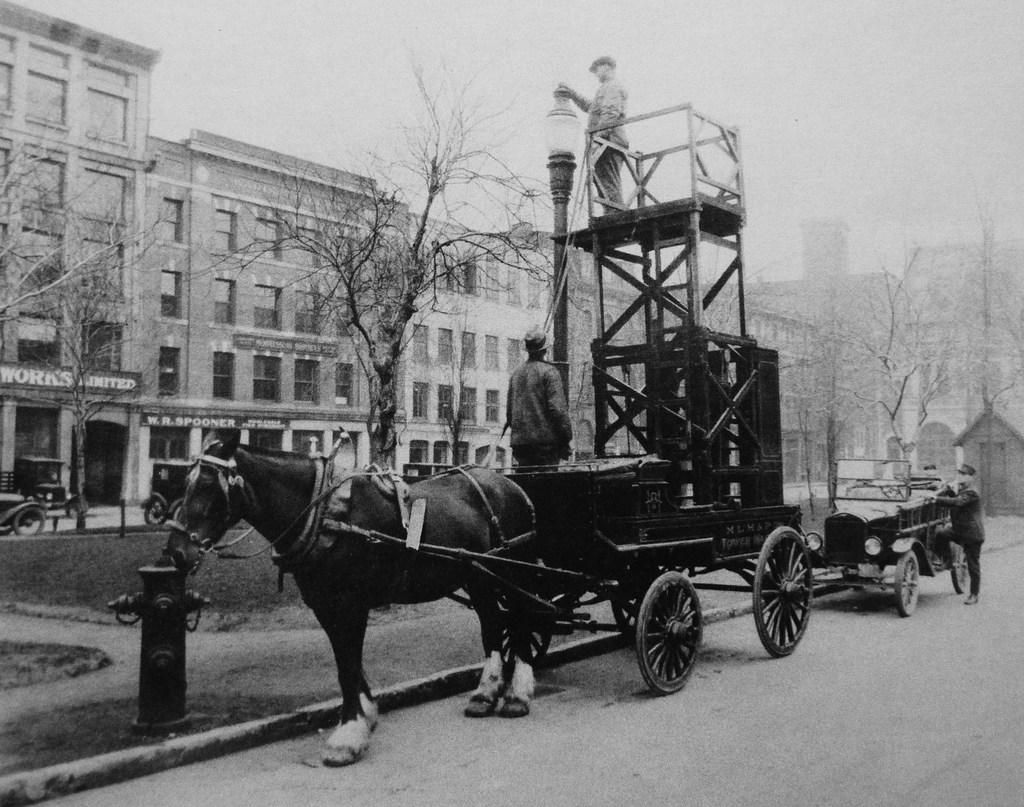horse: (168, 424, 537, 766)
